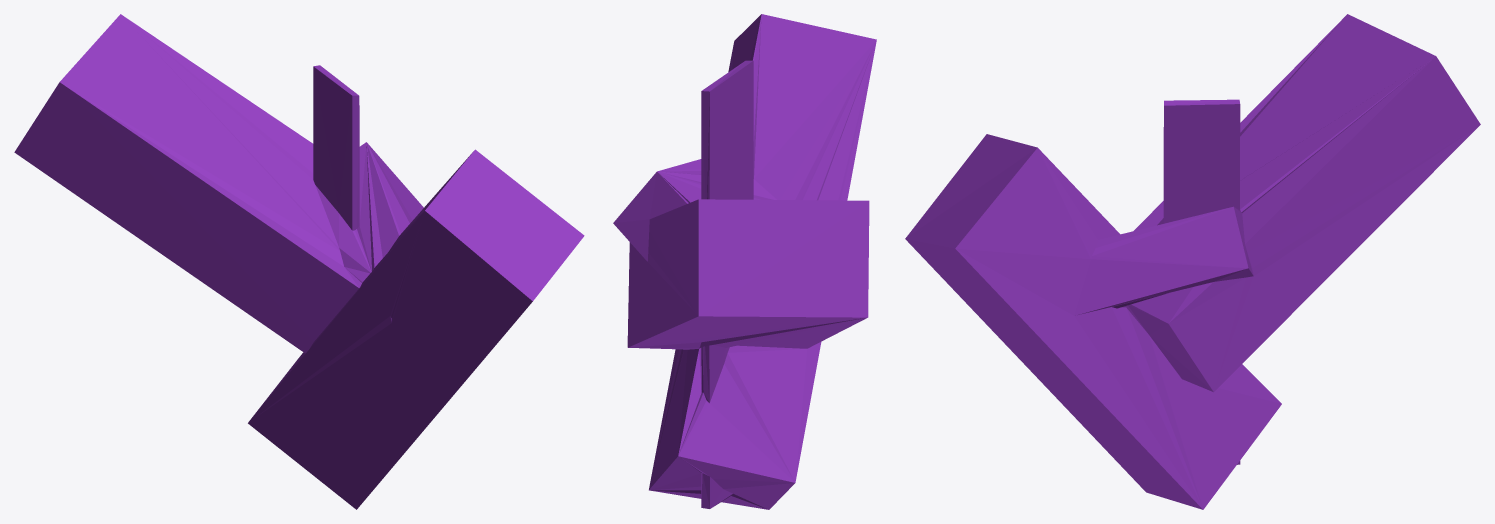
The picture shows the model from 3 angles, left to right: view 1: azimuth 30°, elevation 25°; view 2: azimuth 150°, elevation 25°; view 3: azimuth 270°, elevation 25°; orthographic projection. The views are drawn at different scales.
Visible parts, largest first — view 1: 774_Cube.3118; view 2: 774_Cube.3118; view 3: 774_Cube.3118.
Part boxes in pixels (x1,y1,x2,y2): 774_Cube.3118: (14, 14, 584, 509); 774_Cube.3118: (613, 14, 876, 509); 774_Cube.3118: (905, 14, 1480, 509).
Bounding box in the file's own units: 11.61 × 13.12 × 17.31.
